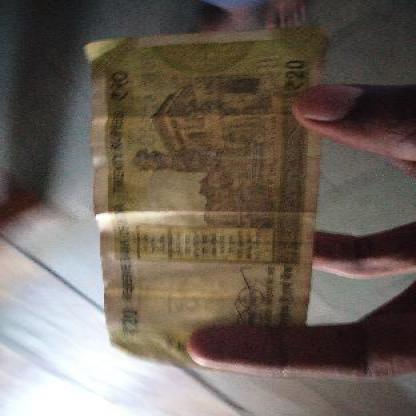New20Back: (97, 31, 311, 360)
